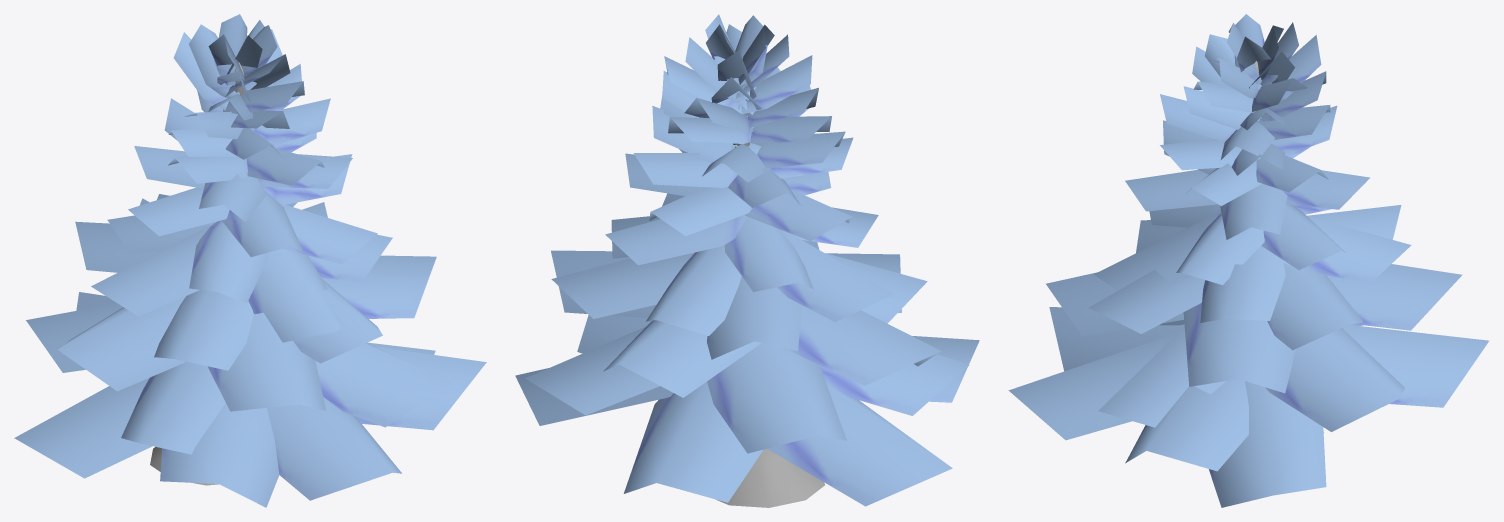
Rendered from Yaro_TallPine_Texture_5.fbx.
3 renders of one model, left to right at view 1: azimuth 30°, elevation 25°; view 2: azimuth 150°, elevation 25°; view 3: azimuth 270°, elevation 25°, orthographic. The views are drawn at different scales.
Visible parts, largest first — view 1: FatLeaves_Test1_pasted__polySurface302; view 2: FatLeaves_Test1_pasted__polySurface302, BaseTree; view 3: FatLeaves_Test1_pasted__polySurface302.
Part boxes in pixels (left/top/right/bottom): FatLeaves_Test1_pasted__polySurface302: left=14, top=14, right=486, bottom=507; FatLeaves_Test1_pasted__polySurface302: left=515, top=14, right=979, bottom=506; BaseTree: left=715, top=113, right=824, bottom=507; FatLeaves_Test1_pasted__polySurface302: left=1008, top=14, right=1489, bottom=507.
Size of the model in its own units: 236 by 233 by 239.
